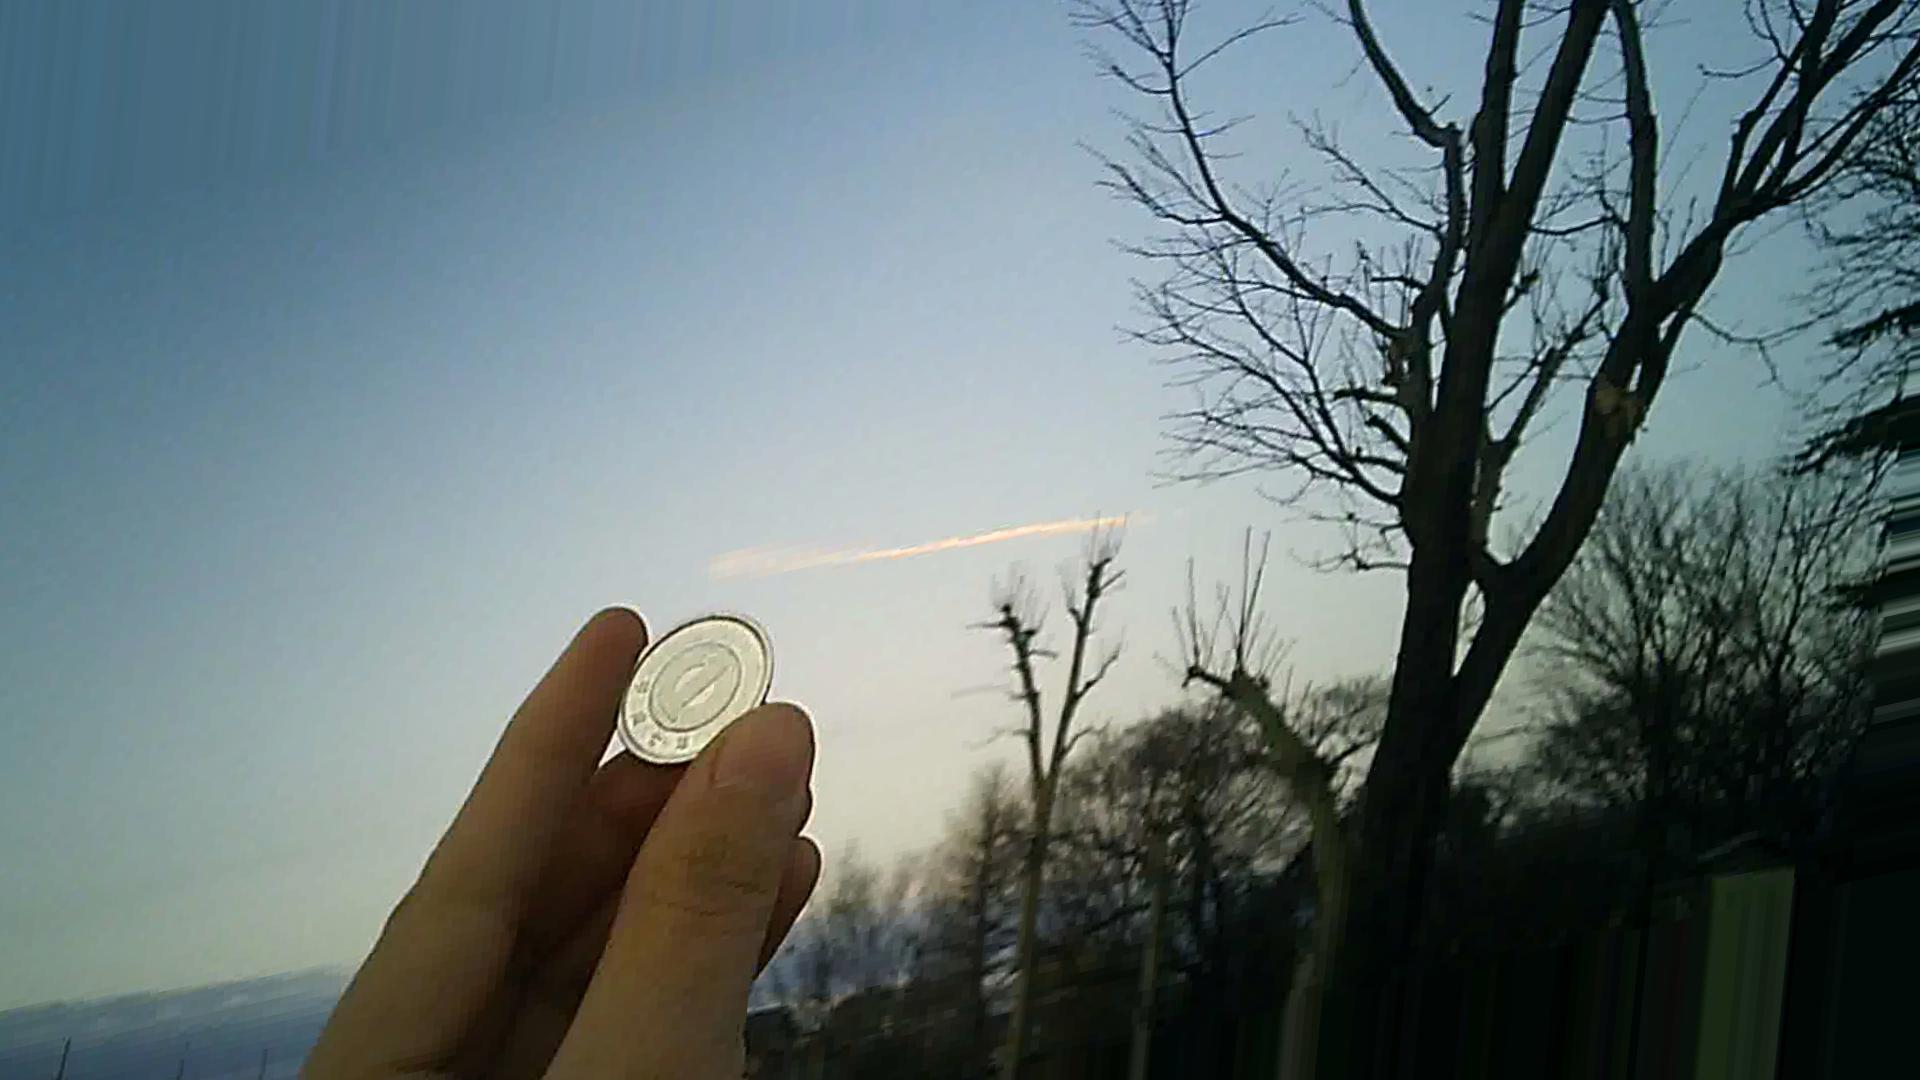1 Yen: (607, 600, 775, 766)
